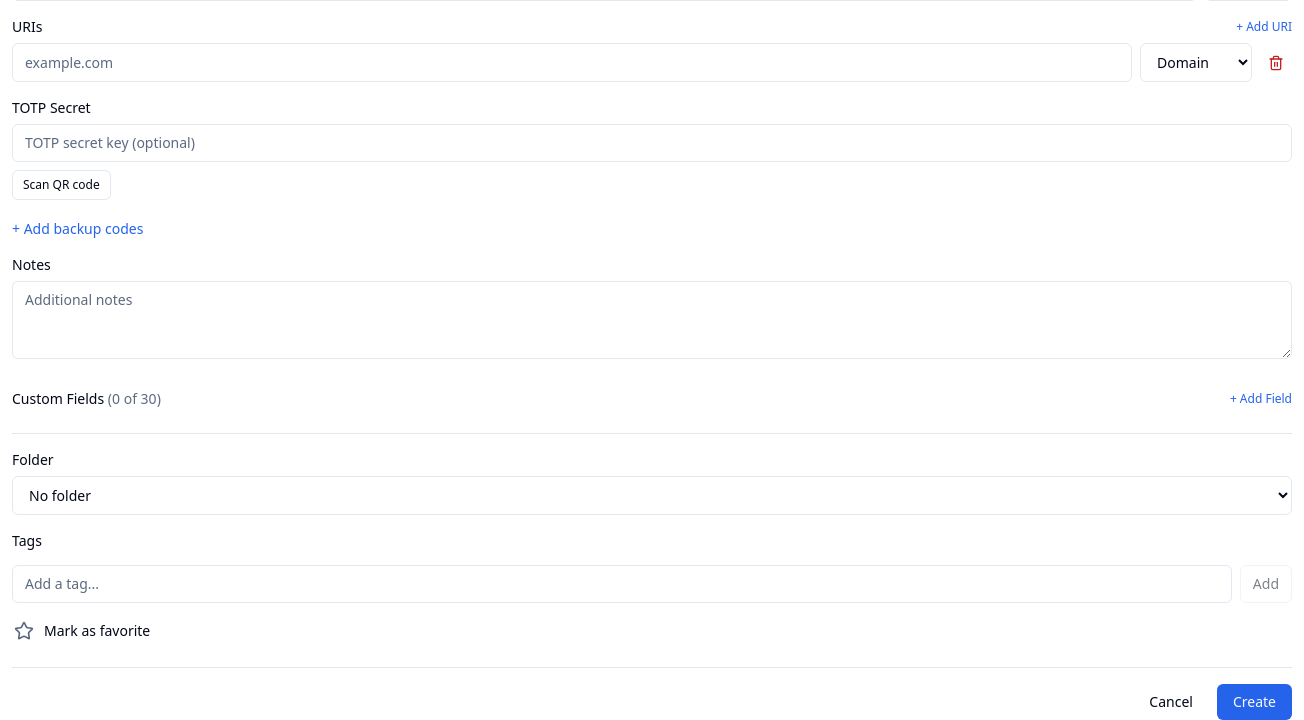
Test case: Phase 8.1: VaultItemForm boolean custom field › renders boolean option in the custom field type dropdown
(page scrolled)
// Click "+ Add Field" to add a custom field
Click the button "+ Add Field".
click(1261, 399)  # box [1230, 391, 1292, 407]
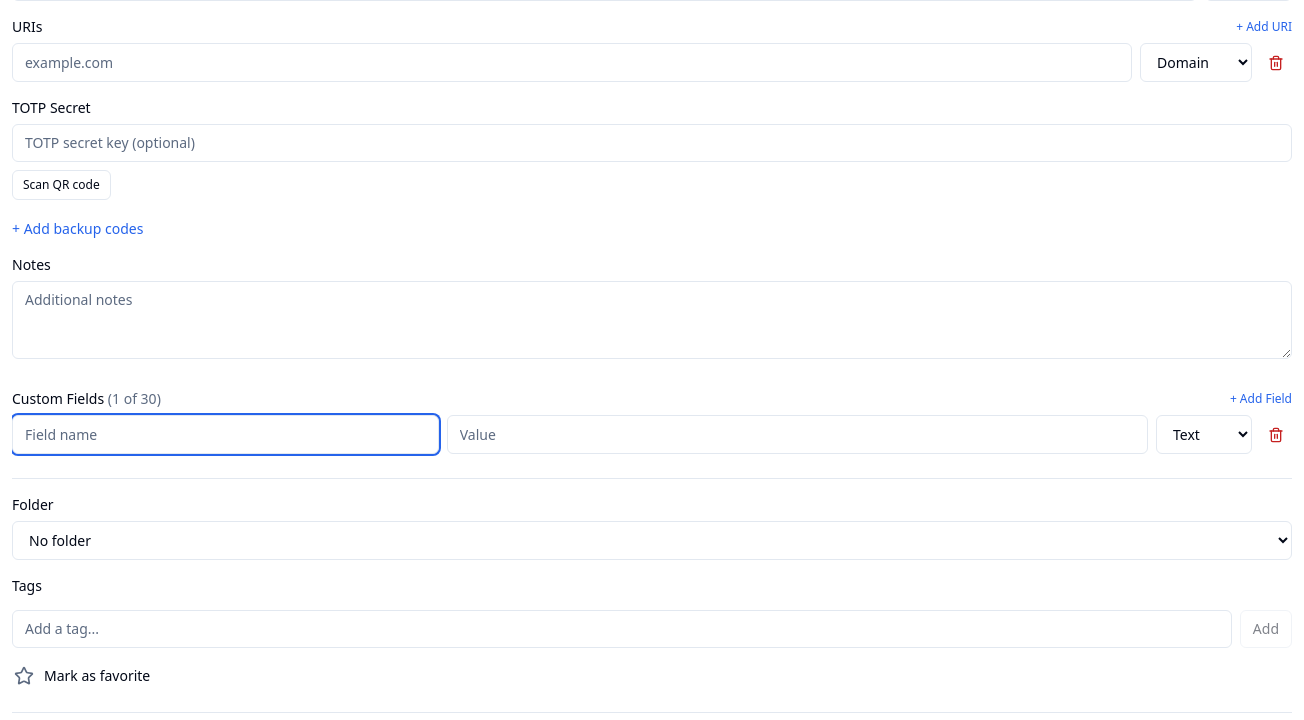
Expected: the dropdown named "Custom field 1 type" is shown, [1156, 415, 1252, 454]
